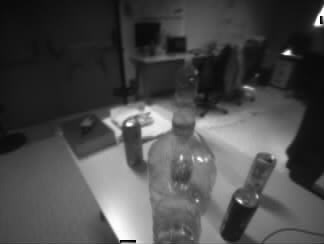Bottle: (152, 116, 210, 241), (176, 60, 196, 118)
Tin can: (221, 188, 256, 238), (249, 152, 274, 194), (123, 119, 144, 167)
